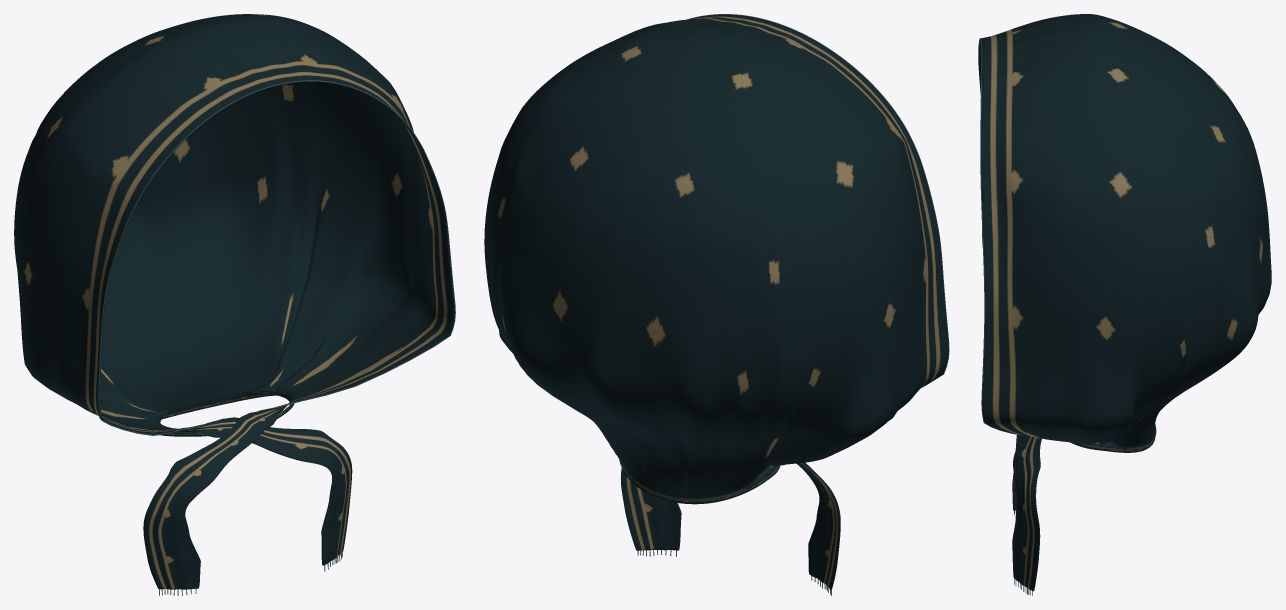
File: Masculine-taper-sweatshirt-pashmina249-headgear.glb
3 renders of one model, left to right at view 1: azimuth 30°, elevation 25°; view 2: azimuth 150°, elevation 25°; view 3: azimuth 270°, elevation 25°, orthographic. The views are drawn at different scales.
Parts seen in each view (by area): view 1: 226 headgear / Headwear / continuous woven pashmina239, 226 headgear / Headwear / face edge239; view 2: 226 headgear / Headwear / continuous woven pashmina239, 226 headgear / Headwear / face edge239; view 3: 226 headgear / Headwear / continuous woven pashmina239, 226 headgear / Headwear / face edge239.
Boxes of the visible parts, <box> form: 226 headgear / Headwear / continuous woven pashmina239: <box>14,14,454,589</box>; 226 headgear / Headwear / face edge239: <box>98,80,455,435</box>; 226 headgear / Headwear / continuous woven pashmina239: <box>484,14,948,589</box>; 226 headgear / Headwear / face edge239: <box>687,14,949,387</box>; 226 headgear / Headwear / continuous woven pashmina239: <box>978,14,1271,591</box>; 226 headgear / Headwear / face edge239: <box>978,38,1017,434</box>.
Bounding box in the file's own units: 1.03 × 1.41 × 0.7255.
Materials: 3 (1 with a texture image).
